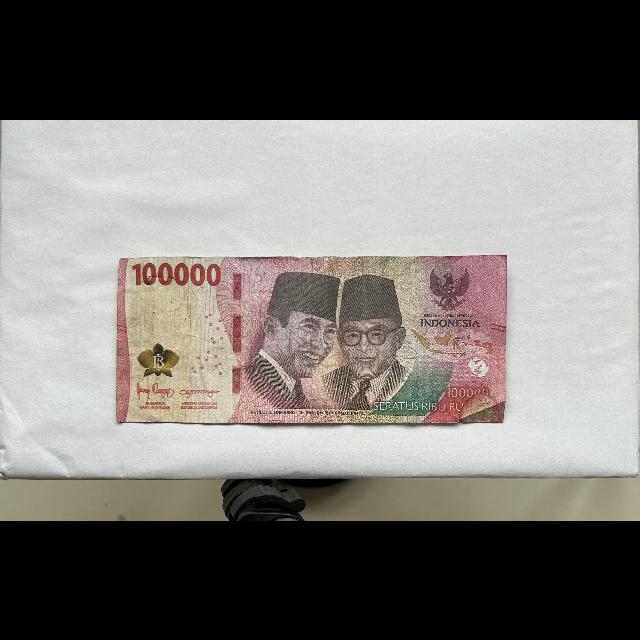Palsu-100k: (114, 252, 508, 424)
Tinta-Palsu-100k: (136, 341, 180, 377)
